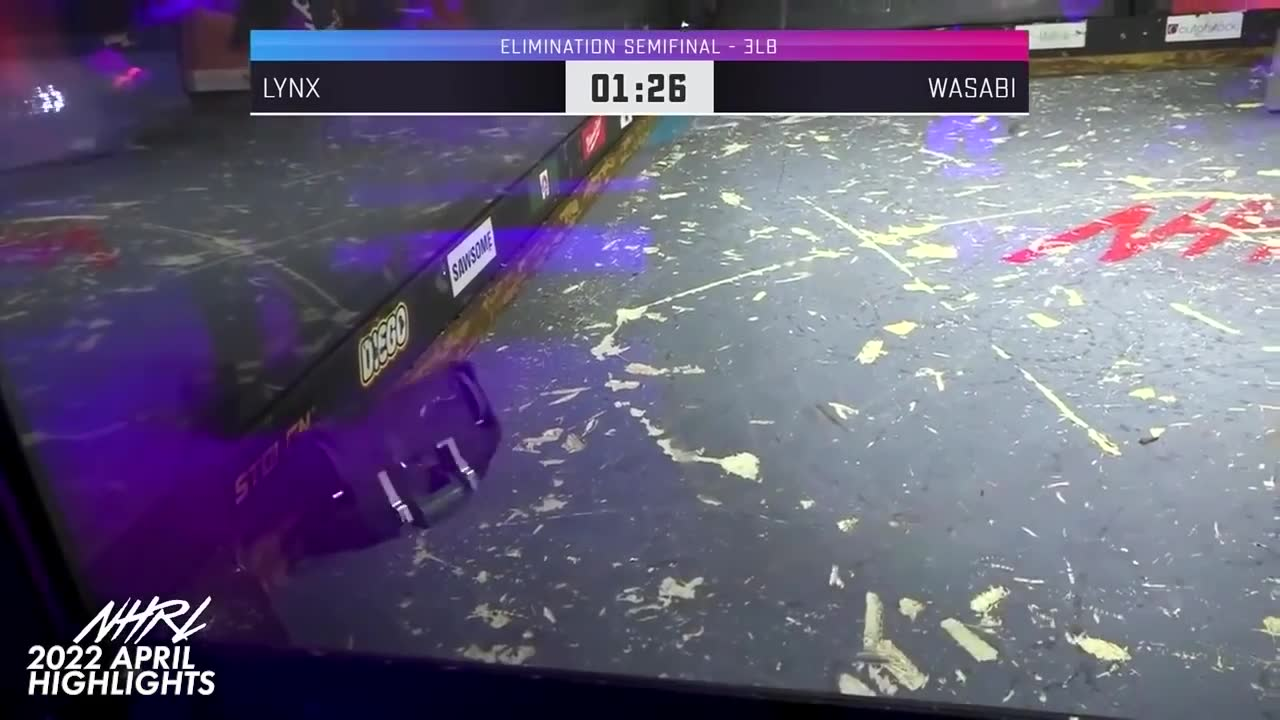combatbot: (299, 360, 501, 535)
housebot: (1263, 30, 1280, 110)
